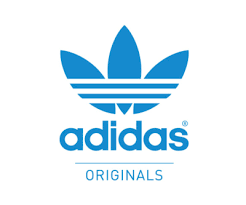adidas: (59, 25, 189, 152)
